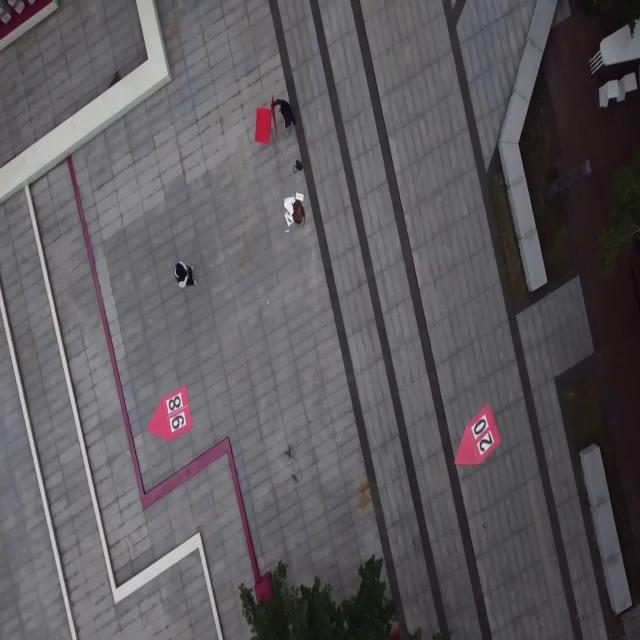-sign-: (453, 402, 501, 468), (147, 387, 192, 441), (255, 106, 272, 146)
